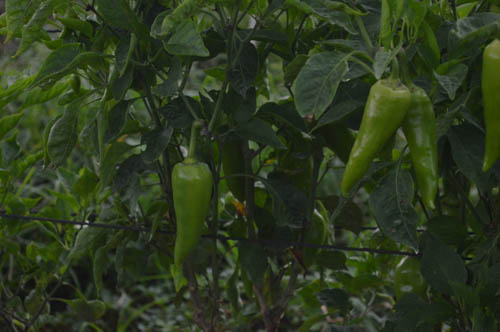ChiliPepper: (342, 84, 407, 196), (165, 163, 211, 266), (410, 87, 436, 208)
